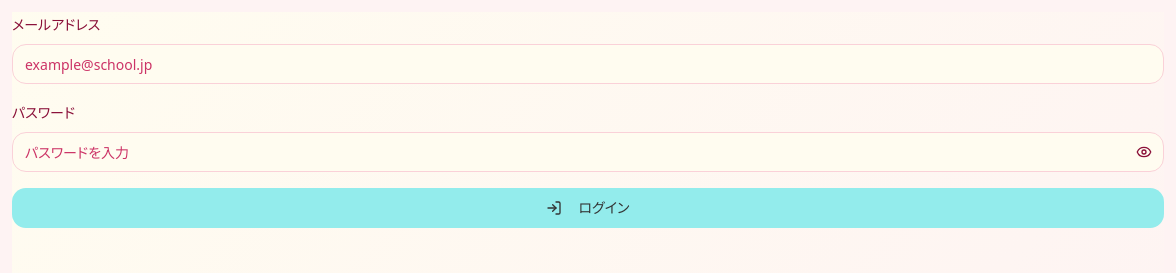
Test: LoginForm › validates password length
Type "test@example.com" into the field labelled "メールアドレス" at x=588, y=64, box [12,44,1164,84]
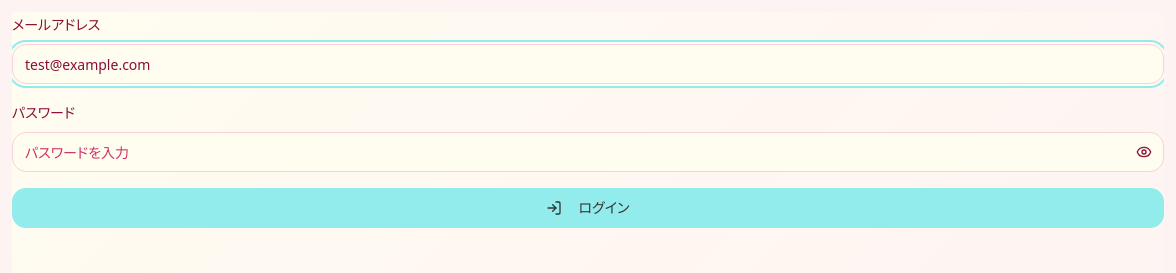
Type "123" into the password field with placeholder "パスワードを入力" at x=588, y=152, box [12,132,1164,172]
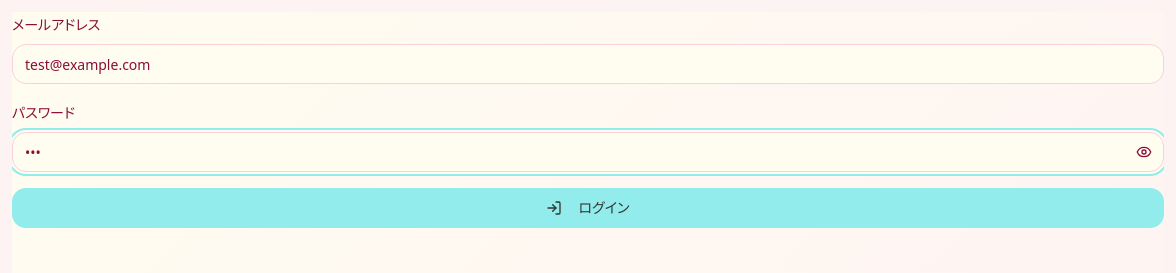
Click the button "ログイン" at x=588, y=208, box [12,188,1164,228]
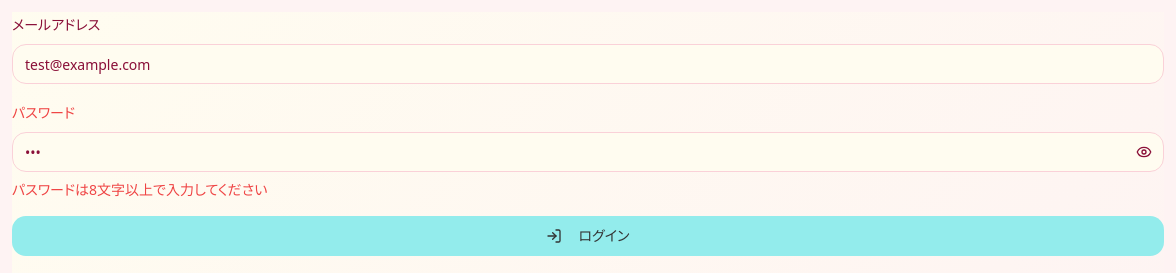
Now the text "パスワードは8文字以上で入力してください" is shown, box [12,180,267,199]
